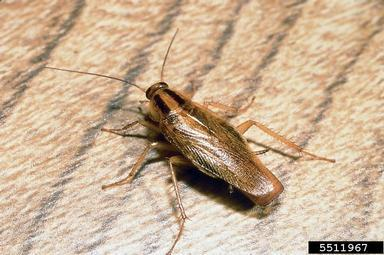cockroach: (138, 78, 288, 216)
